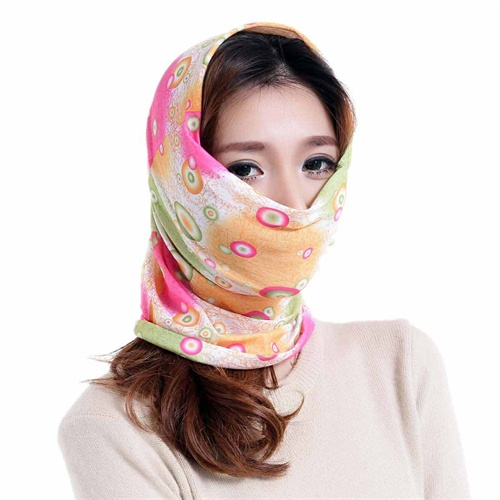face_mask: (206, 92, 343, 300)
